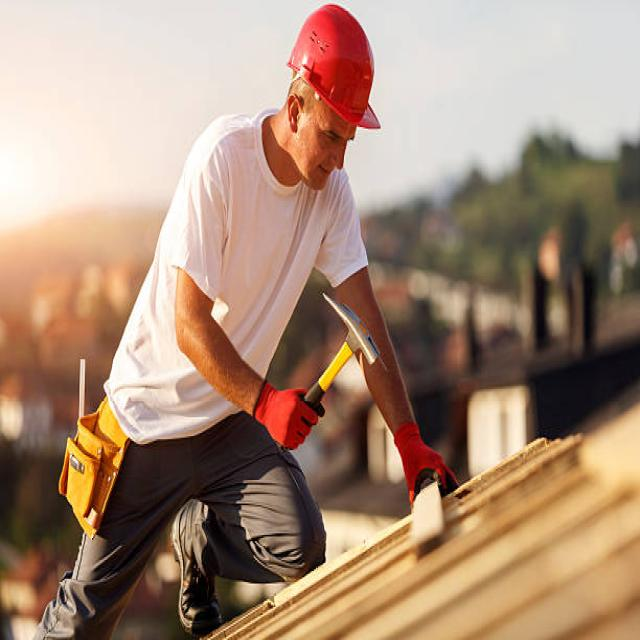gloves: (250, 376, 324, 448), (393, 424, 457, 506)
